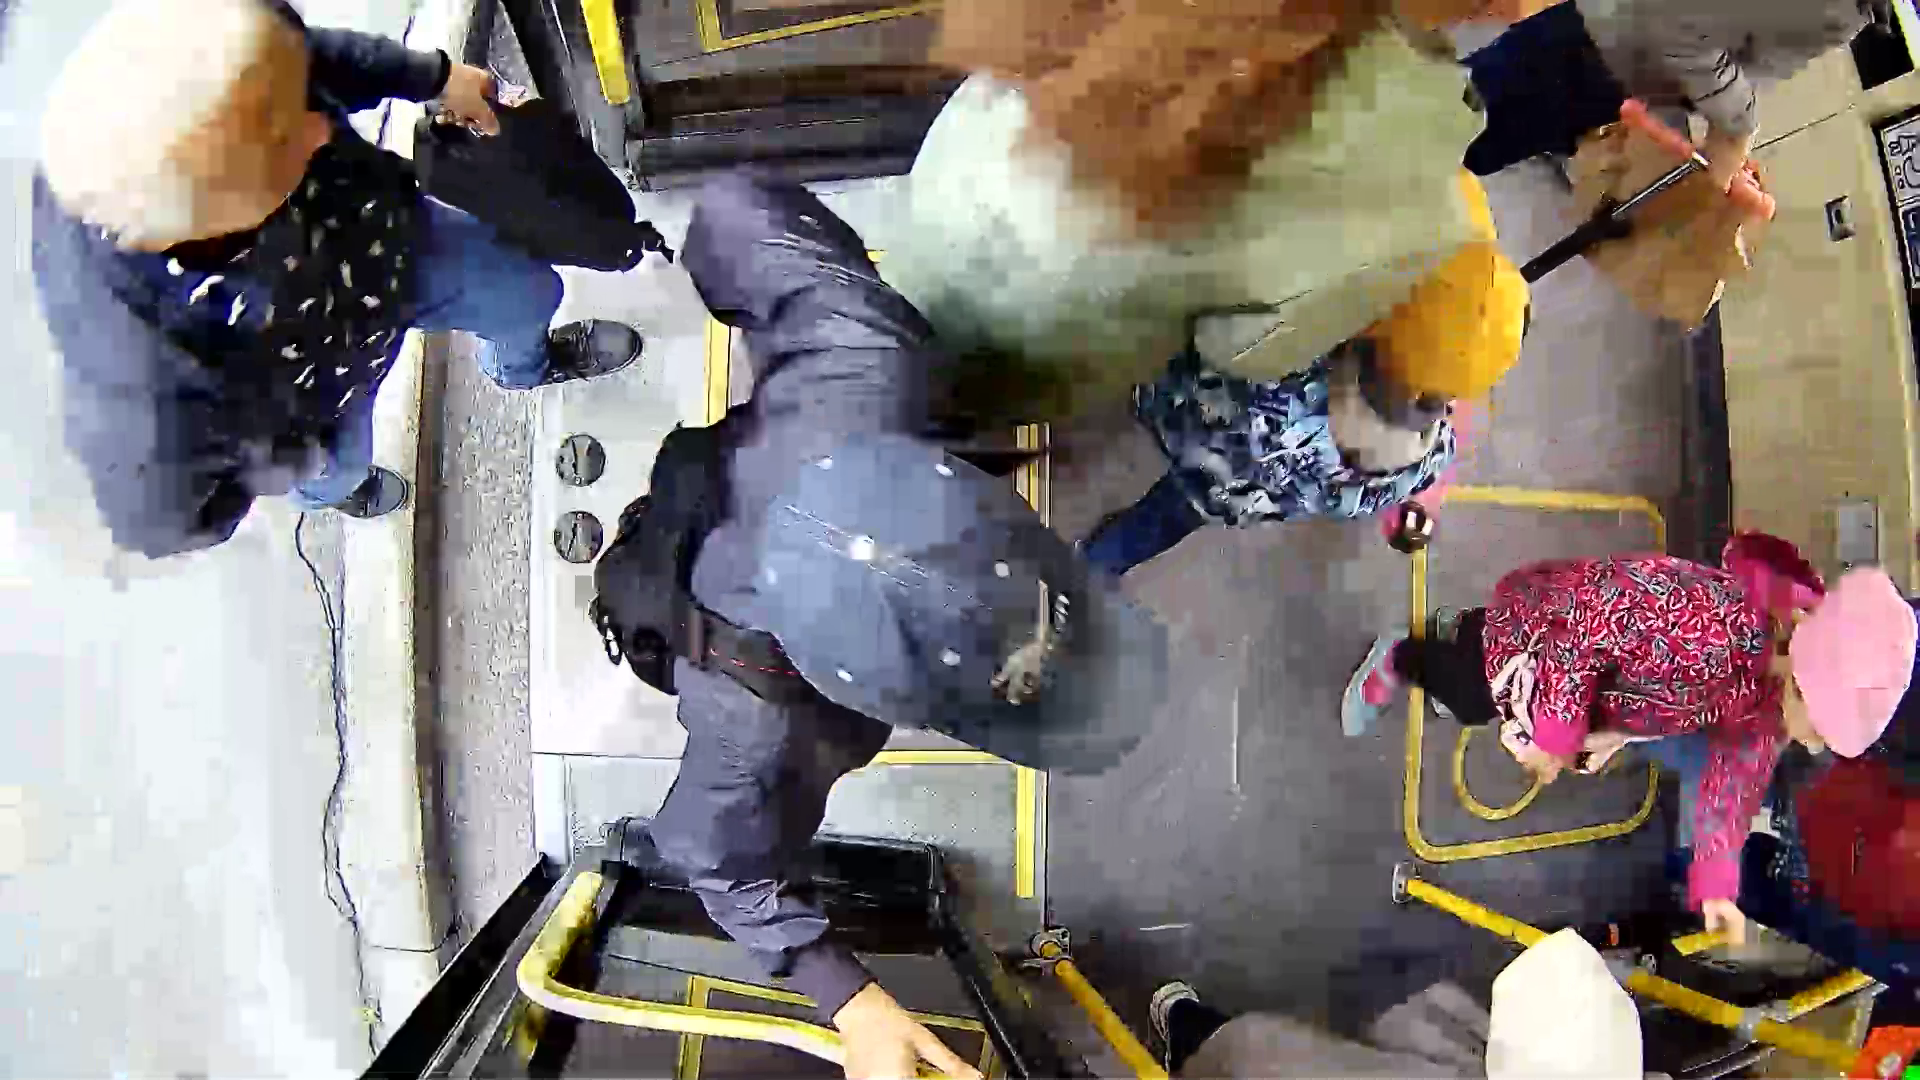person: (587, 199, 1227, 914), (29, 15, 707, 568), (1324, 485, 1877, 882)
